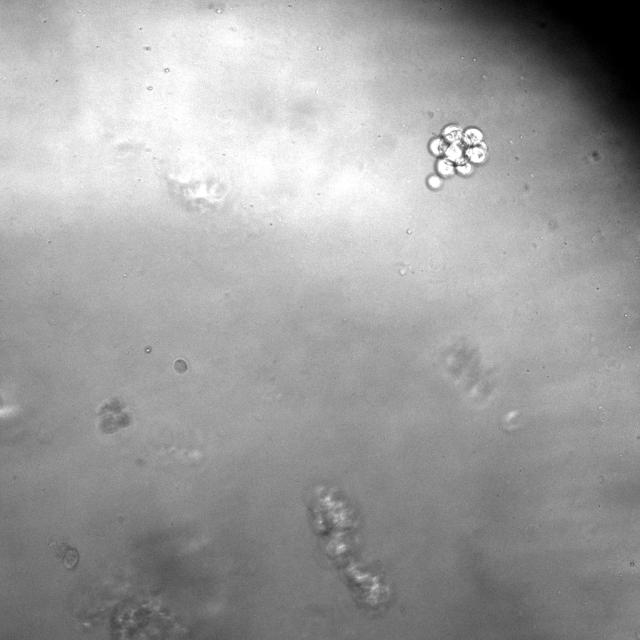organoid: (304, 482, 394, 615), (426, 124, 487, 190), (110, 598, 187, 639), (96, 398, 132, 434), (48, 537, 79, 569), (173, 358, 188, 373)
